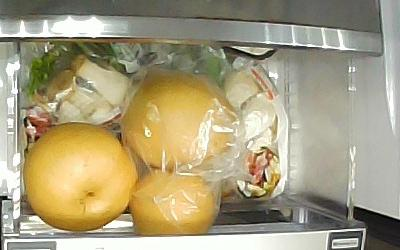pear: (23, 122, 137, 232)
pear_vinyl: (125, 70, 233, 167), (130, 170, 216, 235)
